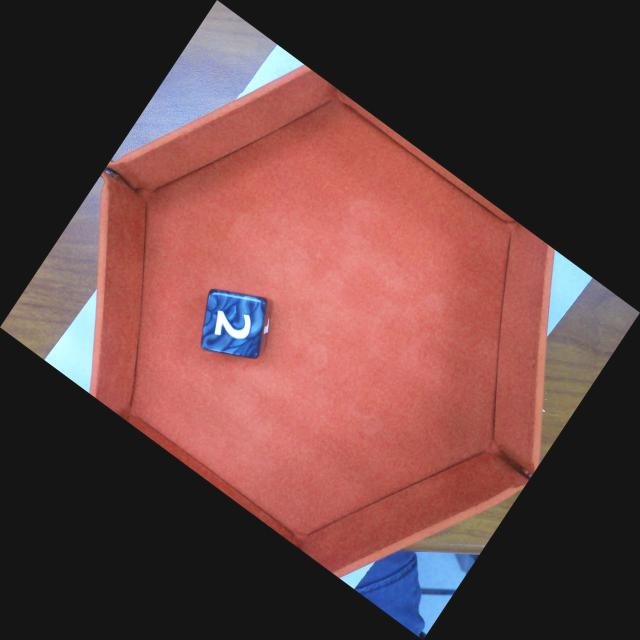dice: (198, 286, 267, 360)
